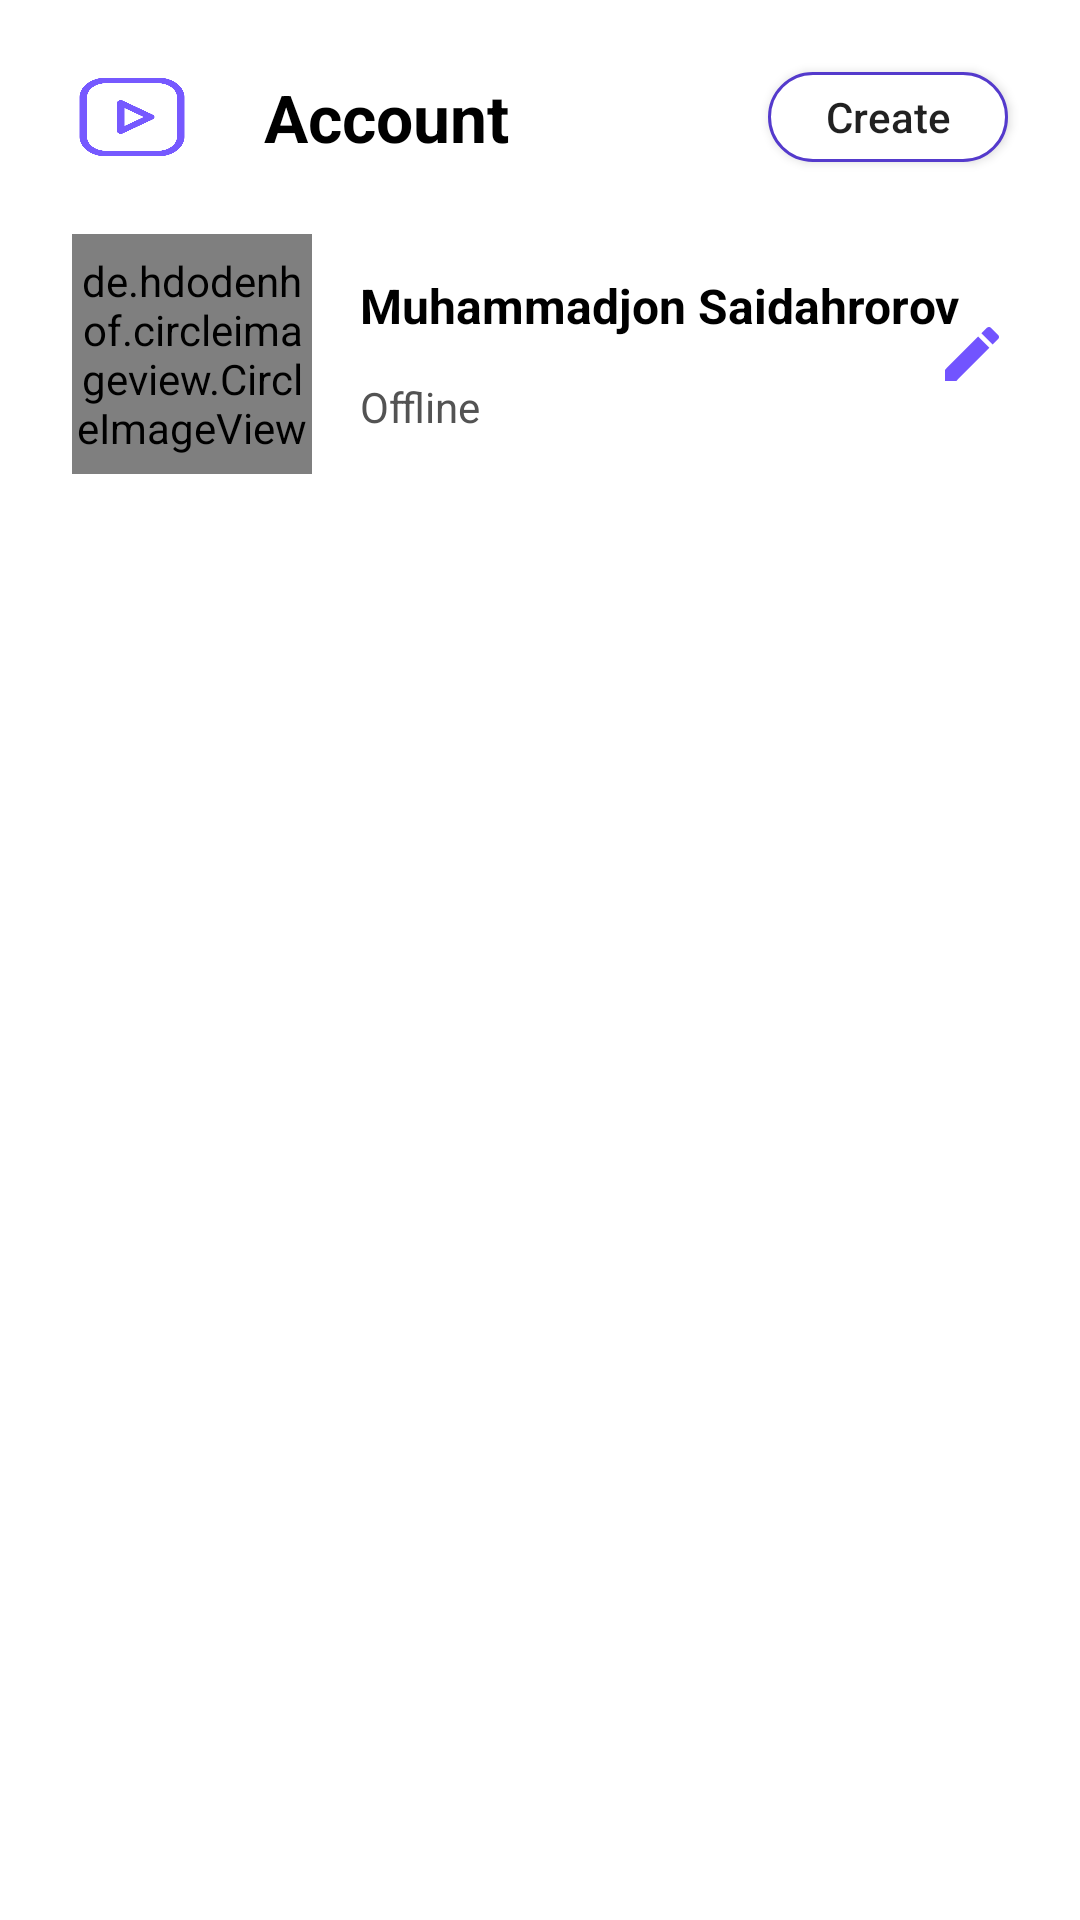

Where to tap for icons on this 1080px x 1920px app screen, as (x,y):
edit: (972,354)
play: (132,117)
